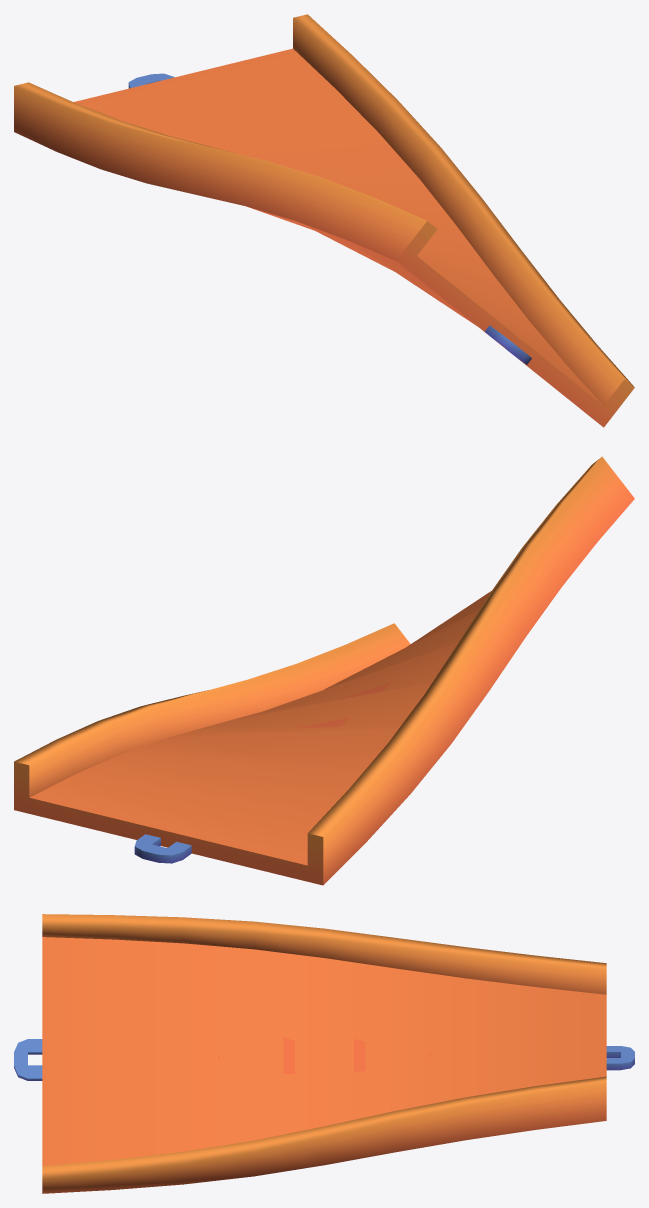
Rendered from kenney-toy-car-track-wide-straight-skew-left.glb.
3 renders of one model, top to bottom at view 1: azimuth 30°, elevation 25°; view 2: azimuth 150°, elevation 25°; view 3: azimuth 270°, elevation 25°, orthographic. The views are drawn at different scales.
Visible parts, largest first — view 1: track-wide-straight-skew-left; view 2: track-wide-straight-skew-left; view 3: track-wide-straight-skew-left.
Part boxes in pixels (box(x1,y1,x2,y2)): track-wide-straight-skew-left: box(14, 14, 634, 427); track-wide-straight-skew-left: box(14, 456, 634, 885); track-wide-straight-skew-left: box(14, 914, 634, 1193).
Bounding box in the file's own units: 2.04 × 1.63 × 4.4.
1 material, 1 textured.
